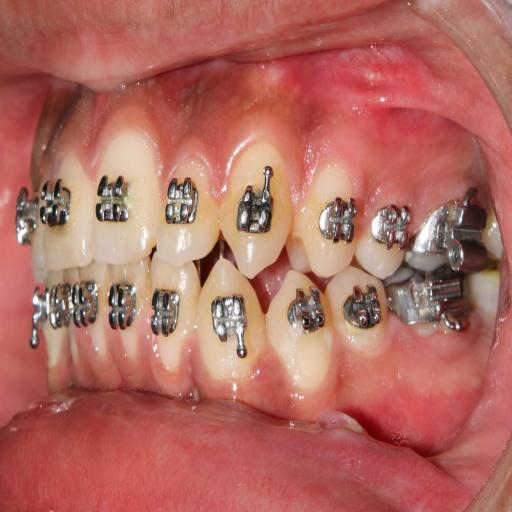correct_brace: (263, 266, 333, 403), (298, 147, 360, 280), (234, 162, 278, 240), (205, 292, 254, 362), (285, 282, 329, 336), (93, 170, 134, 226), (163, 175, 200, 227)
incorrect_brace: (160, 144, 220, 265), (316, 191, 358, 244)
